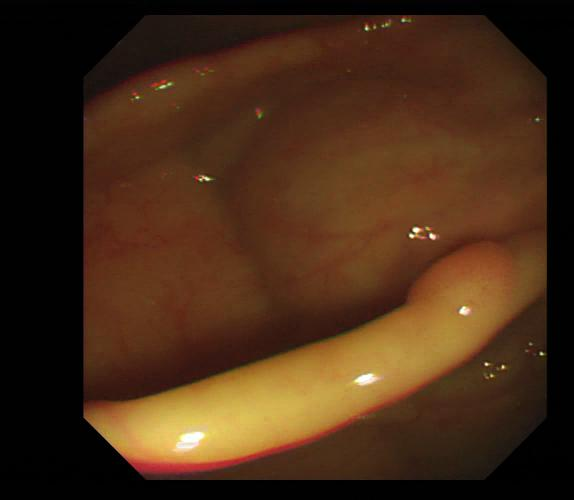polyp: (408, 241, 517, 303)
